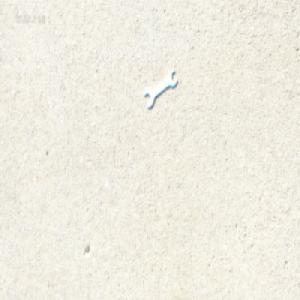Wrench: (145, 70, 178, 109)
